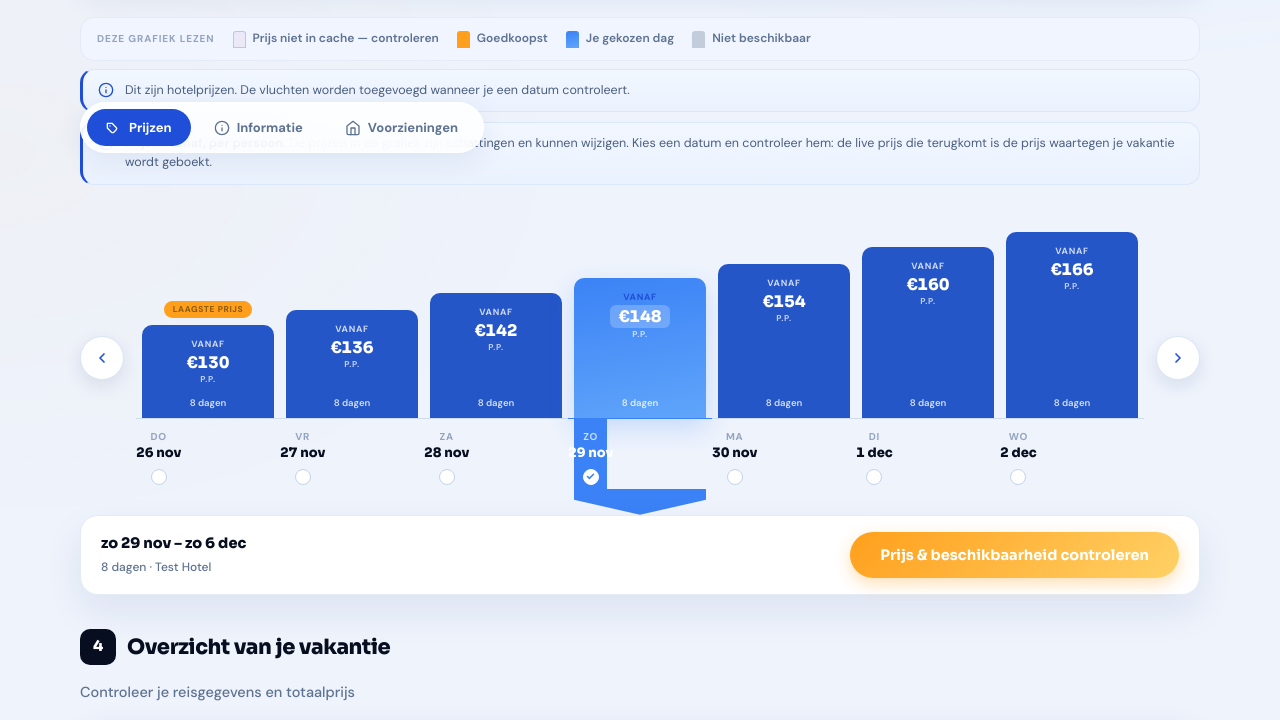
Test: supplier failures are reported in words a traveller can use › translates a timeout instead of printing the axios message
(page scrolled)
Click the button "Laagste prijs vanaf €130 p.p. 8 dagen do 26 nov": click(208, 361) 136,207 -> 280,515
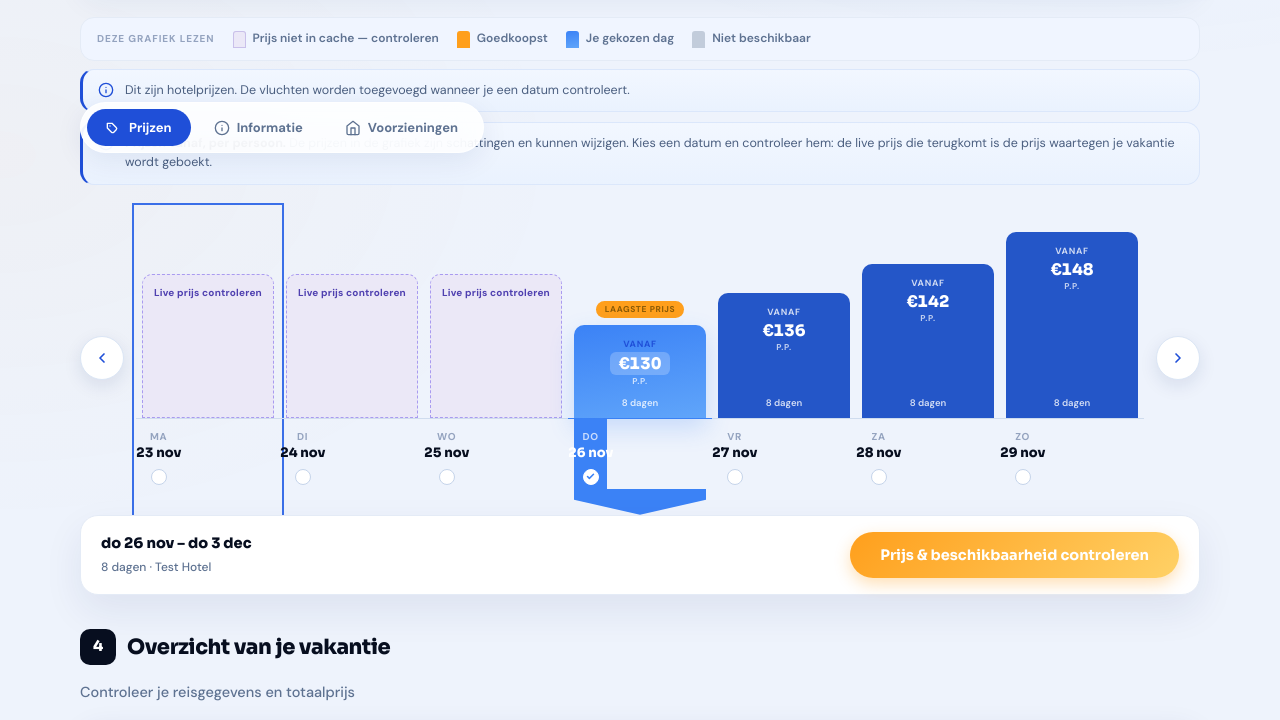
Click the button "Prijs & beschikbaarheid controleren": click(1015, 555) 850,532 -> 1179,578
(page scrolled)
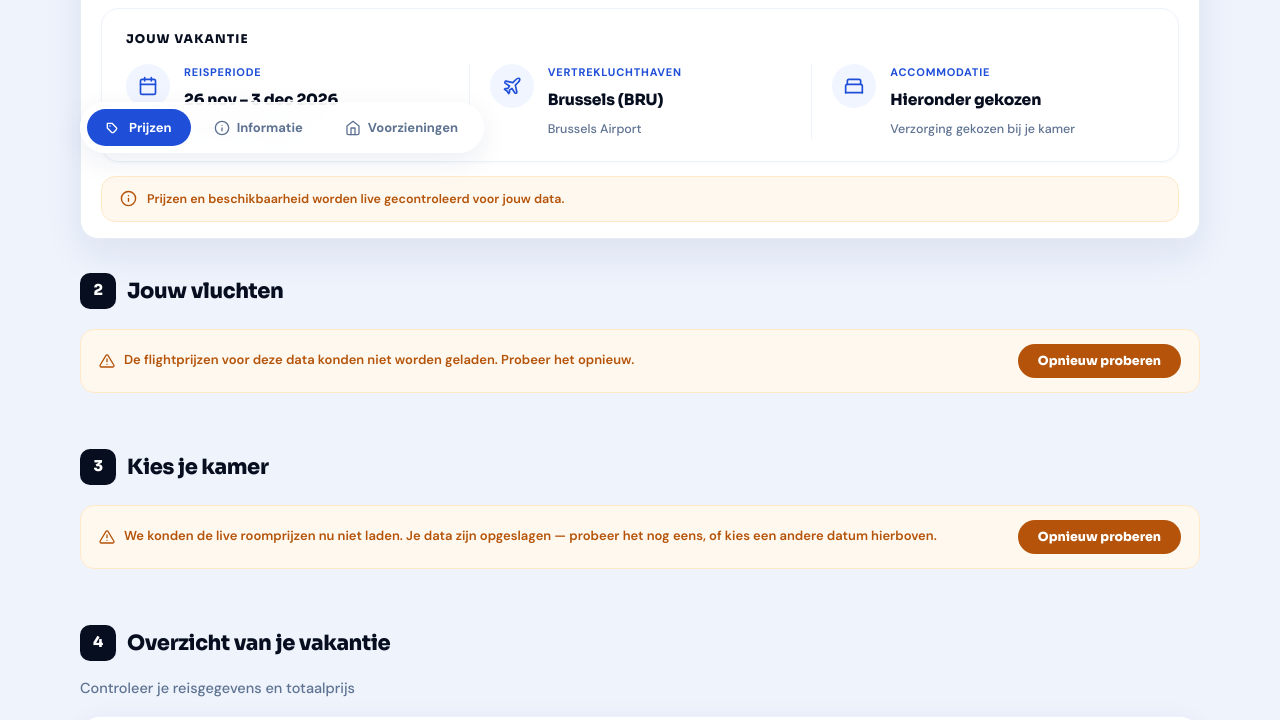
Now the 1st button "Opnieuw proberen" is shown, box 1018,344 -> 1181,378
